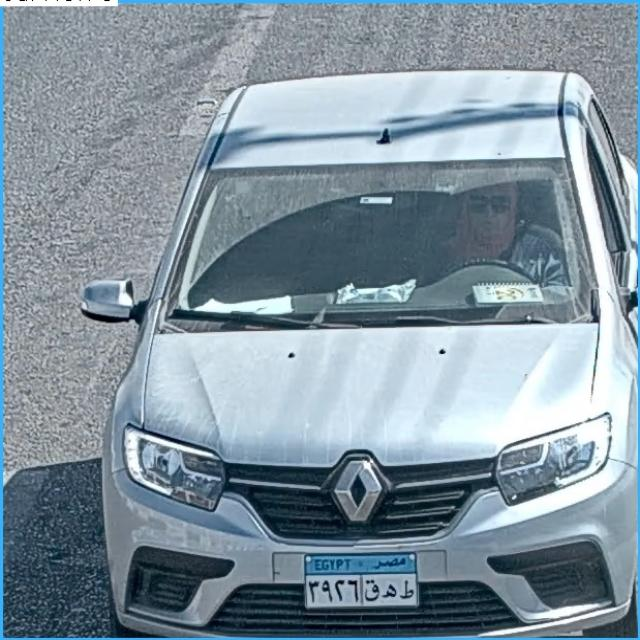windshield: (174, 166, 590, 324)
